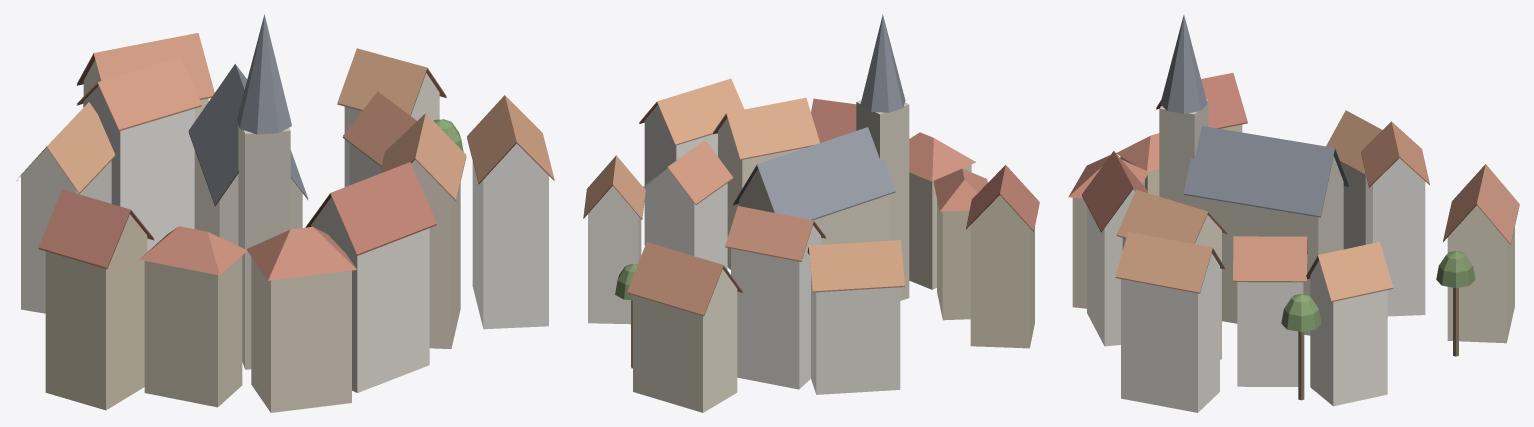
The model's file is town_c.glb.
3 views of the same model, side by side, from view 1: azimuth 30°, elevation 25°; view 2: azimuth 150°, elevation 25°; view 3: azimuth 270°, elevation 25° (orthographic). The views are drawn at different scales.
Parts seen in each view (by area): view 1: town_c; view 2: town_c; view 3: town_c.
Part boxes in pixels (x1=…): town_c: x1=17, y1=14, x2=554, y2=412; town_c: x1=583, y1=14, x2=1039, y2=412; town_c: x1=1068, y1=15, x2=1519, y2=412.
Bounding box in the file's own units: 27.13 × 18.12 × 26.
